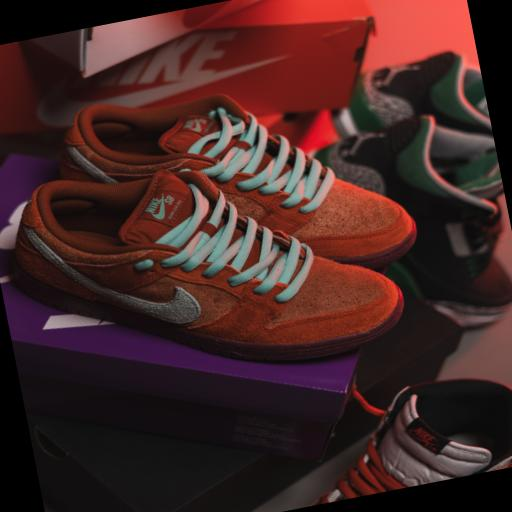shoe: (15, 171, 402, 360), (61, 95, 416, 269), (317, 116, 511, 326), (315, 380, 511, 504), (333, 52, 492, 137)
